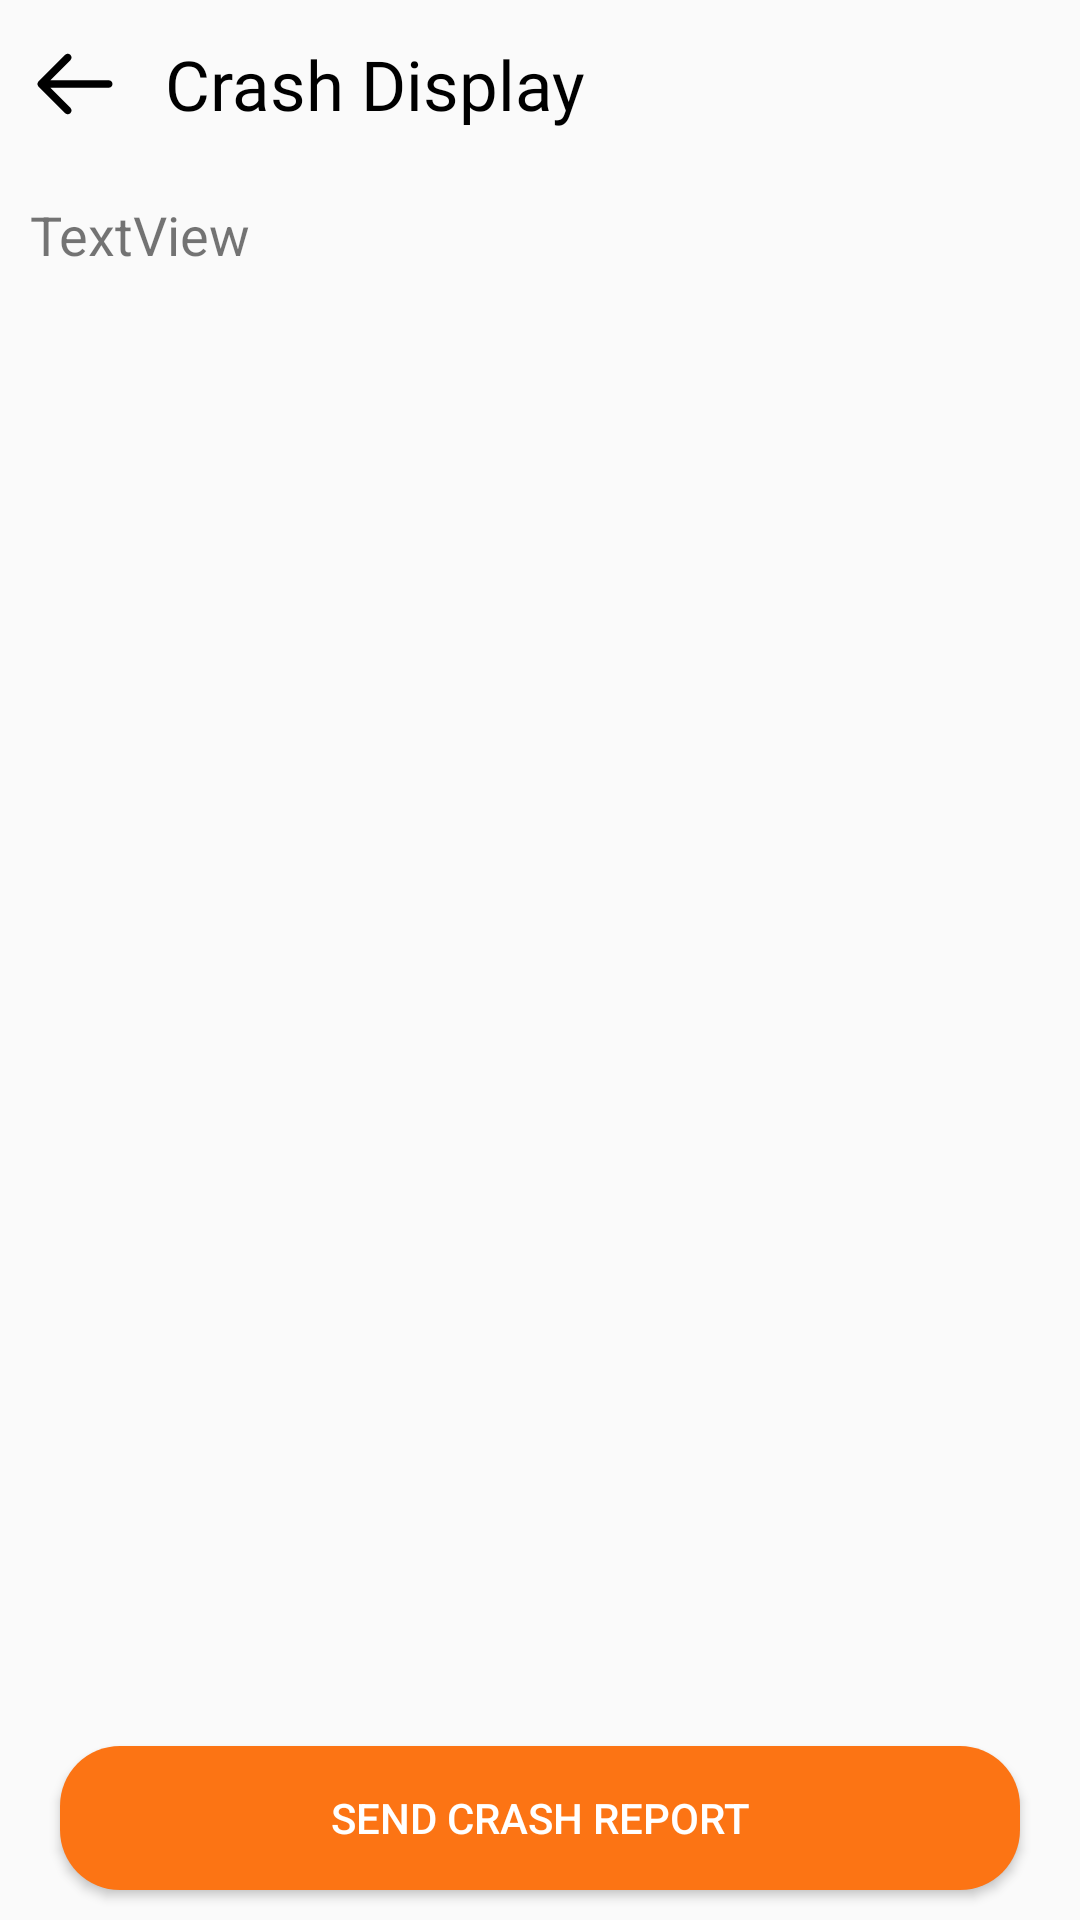

Where icons sit on this 1080 × 1920 app screen, as (x1, y1, x2, y2):
back arrow: (37, 53, 113, 115)
